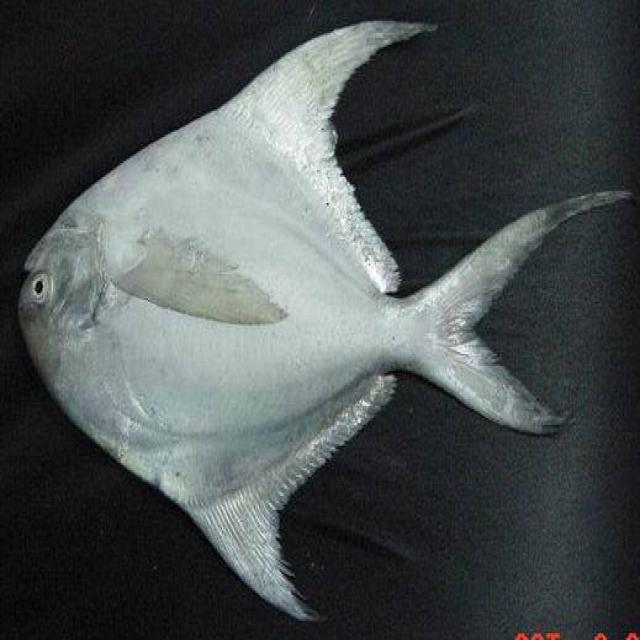pomfred: (16, 16, 637, 618)
